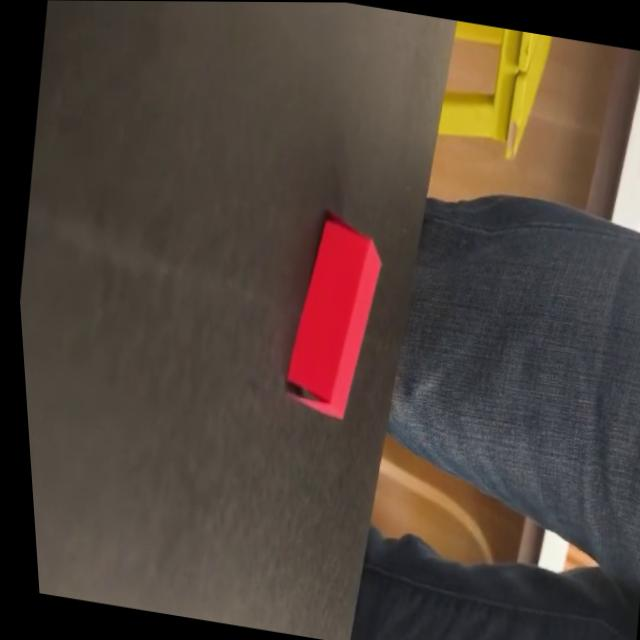red block: (268, 209, 399, 427)
